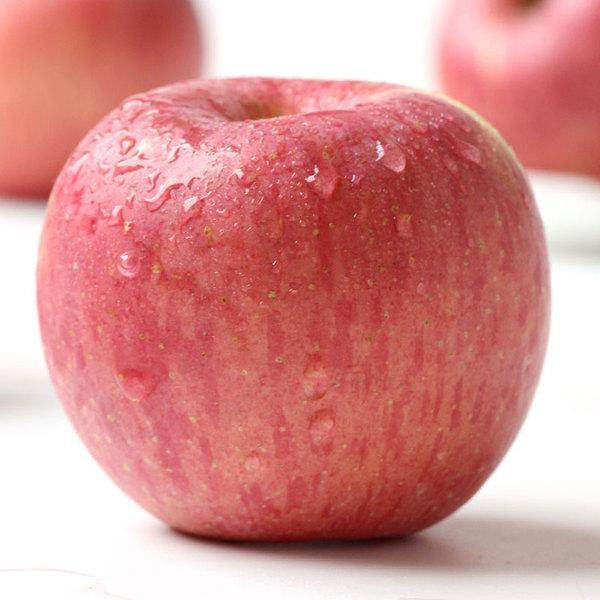apple: (30, 77, 553, 545)
